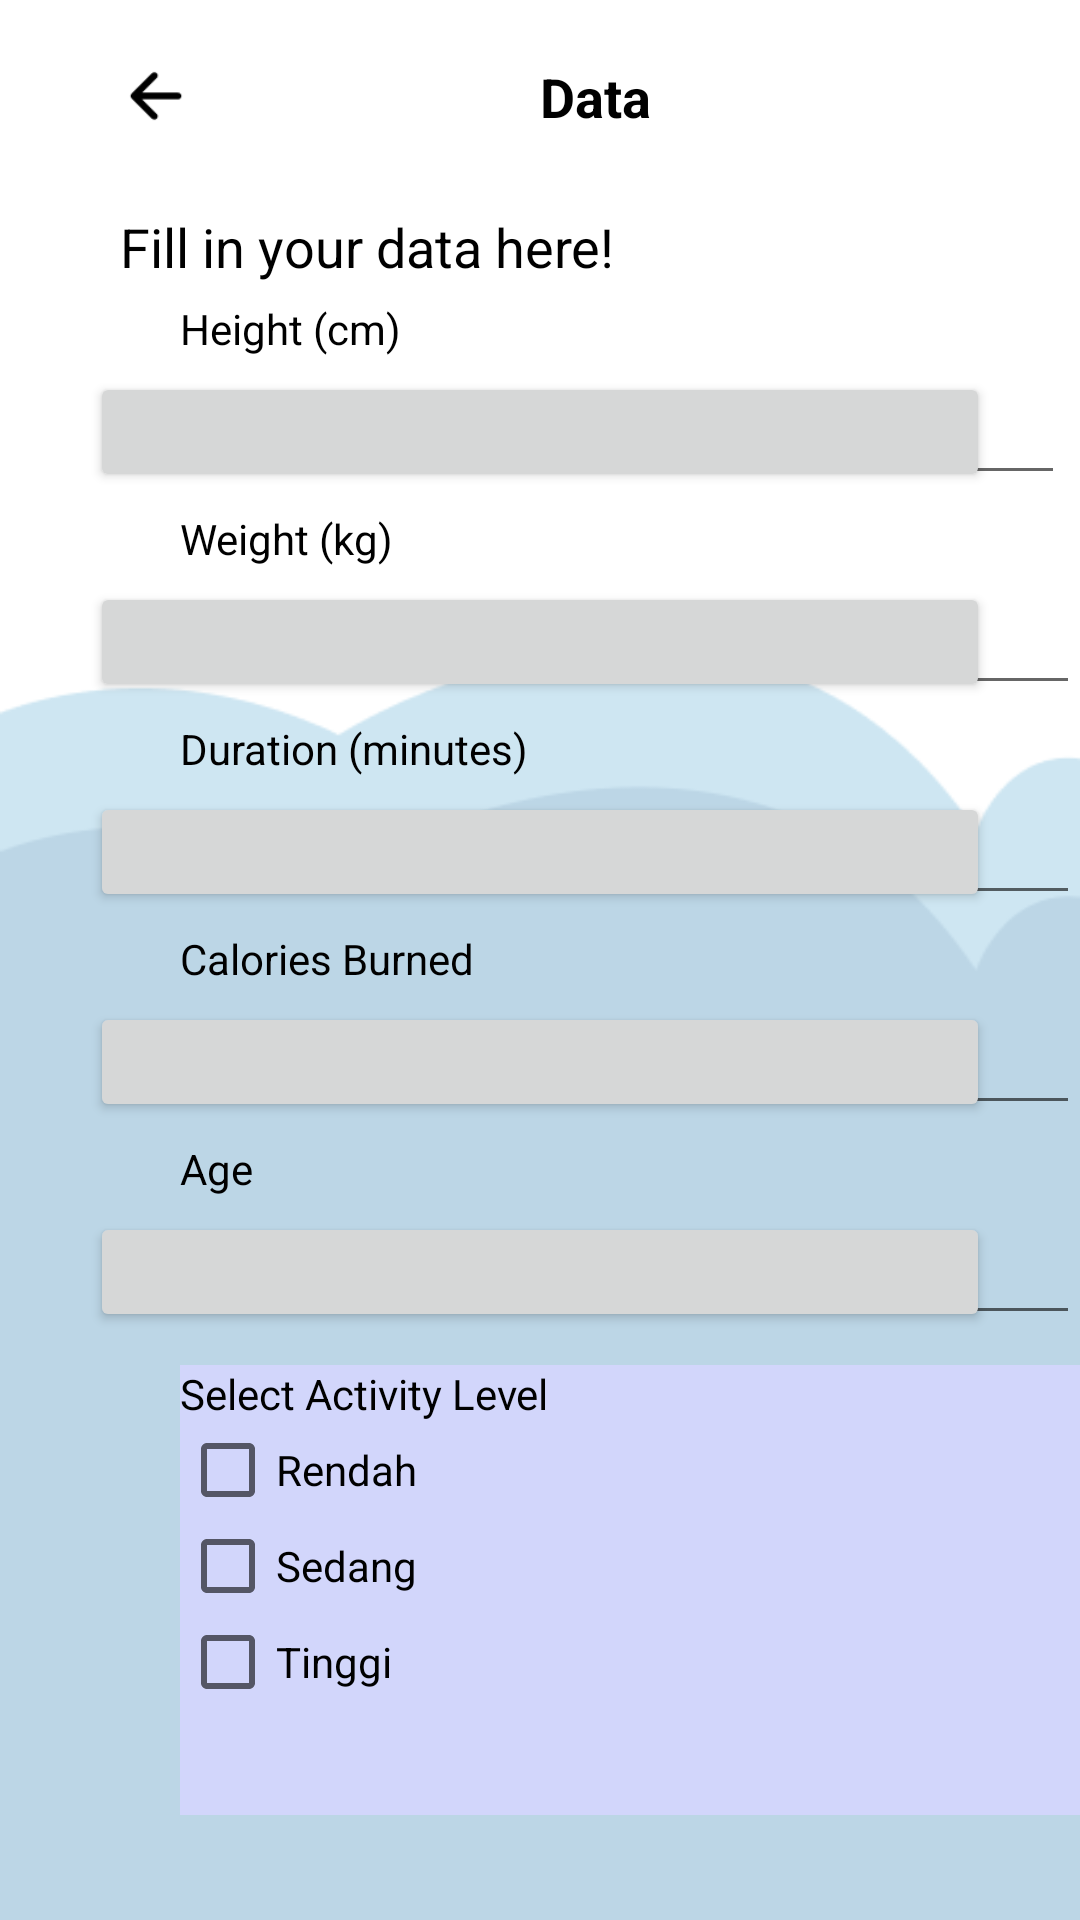

Icon click points for this 1080w x 1920h phone screenshot, format [x,y]:
Back Icon: [156,96]
